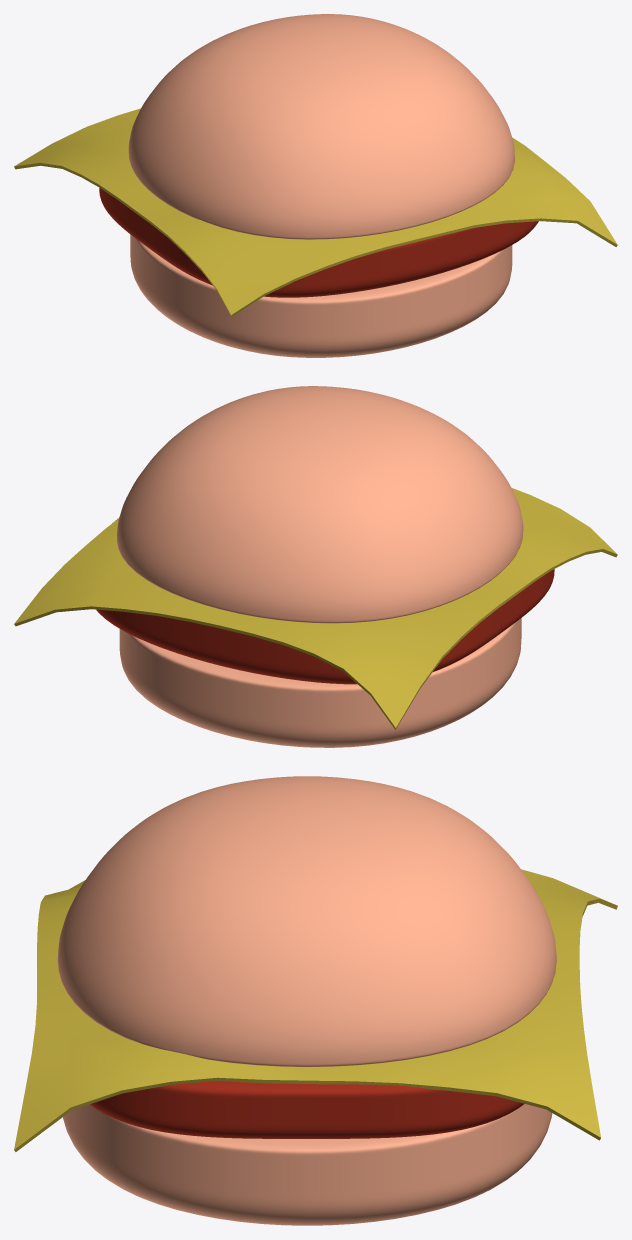
File: hamburger.glb
The picture shows the model from 3 angles, top to bottom: view 1: azimuth 30°, elevation 25°; view 2: azimuth 150°, elevation 25°; view 3: azimuth 270°, elevation 25°; orthographic projection. The views are drawn at different scales.
Parts seen in each view (by area): view 1: Cube.002, Plane, Cube, Cube.001; view 2: Cube.002, Plane, Cube, Cube.001; view 3: Cube.002, Plane, Cube, Cube.001.
Part boxes in pixels (<box>): Cube.002: <box>128,14,514,239</box>; Plane: <box>14,108,617,316</box>; Cube: <box>130,234,512,357</box>; Cube.001: <box>99,188,538,297</box>; Cube.002: <box>117,386,523,623</box>; Plane: <box>14,487,617,729</box>; Cube: <box>119,618,521,747</box>; Cube.001: <box>96,519,554,684</box>; Cube.002: <box>57,776,556,1066</box>; Plane: <box>14,869,617,1151</box>; Cube: <box>63,1104,552,1225</box>; Cube.001: <box>90,1081,524,1138</box>.
Bounding box in the file's own units: 10.59 × 7.23 × 11.21.
